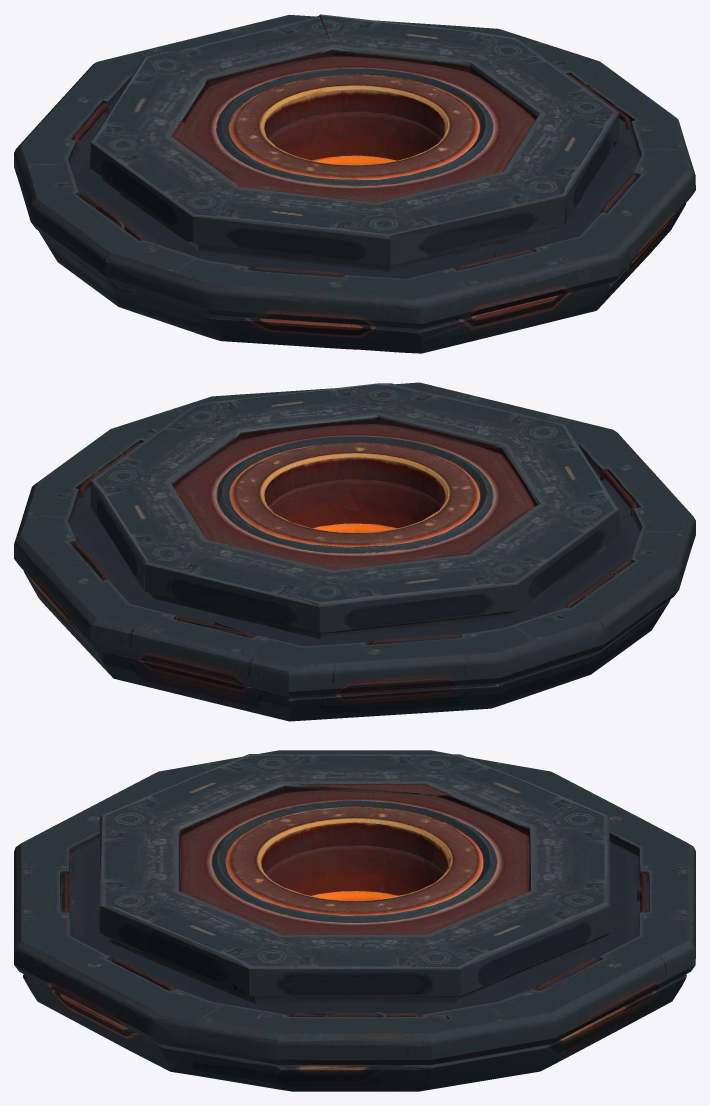
The model's file is boostPad.9045e081.glb.
3 views of the same model, one above another, from view 1: azimuth 30°, elevation 25°; view 2: azimuth 150°, elevation 25°; view 3: azimuth 270°, elevation 25° (orthographic). The views are drawn at different scales.
Parts seen in each view (by area): view 1: output_unwrapped; view 2: output_unwrapped; view 3: output_unwrapped.
Boxes of the visible parts, x1,y1,x2,y2 form: output_unwrapped: (14,14,695,353); output_unwrapped: (14,382,695,721); output_unwrapped: (14,750,695,1091).
Bounding box in the file's own units: 1.9 × 0.3034 × 1.9.
1 material, 1 textured.
